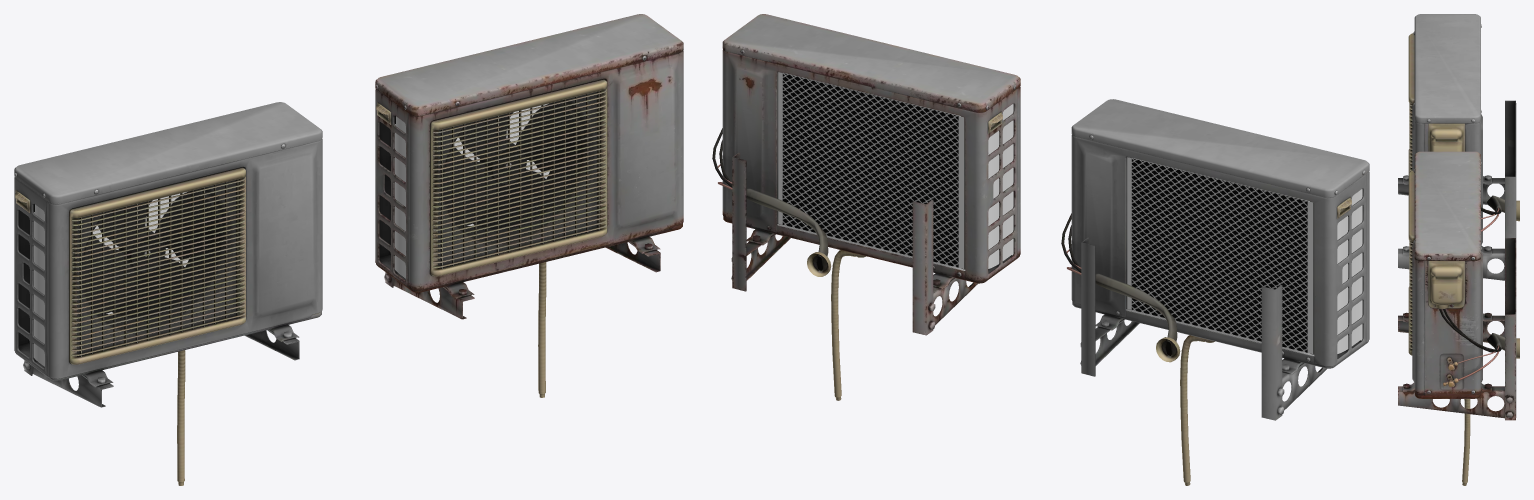
File: exterior_aircon_unit.glb
3 views of the same model, side by side, from view 1: azimuth 30°, elevation 25°; view 2: azimuth 150°, elevation 25°; view 3: azimuth 270°, elevation 25° (orthographic). The views are drawn at different scales.
Parts seen in each view (by area): view 1: exterior_aircon_unit, exterior_aircon_unit_rusted; view 2: exterior_aircon_unit, exterior_aircon_unit_rusted; view 3: exterior_aircon_unit_rusted, exterior_aircon_unit.
Boxes of the visible parts, x1=… form: exterior_aircon_unit: x1=14, y1=102, x2=322, y2=485; exterior_aircon_unit_rusted: x1=375, y1=14, x2=683, y2=397; exterior_aircon_unit: x1=1061, y1=99, x2=1369, y2=485; exterior_aircon_unit_rusted: x1=712, y1=14, x2=1020, y2=400; exterior_aircon_unit_rusted: x1=1398, y1=151, x2=1519, y2=485; exterior_aircon_unit: x1=1398, y1=14, x2=1519, y2=280.
Bounding box in the file's own units: 1.8 × 0.9279 × 0.3741.
4 materials, 4 textured.
